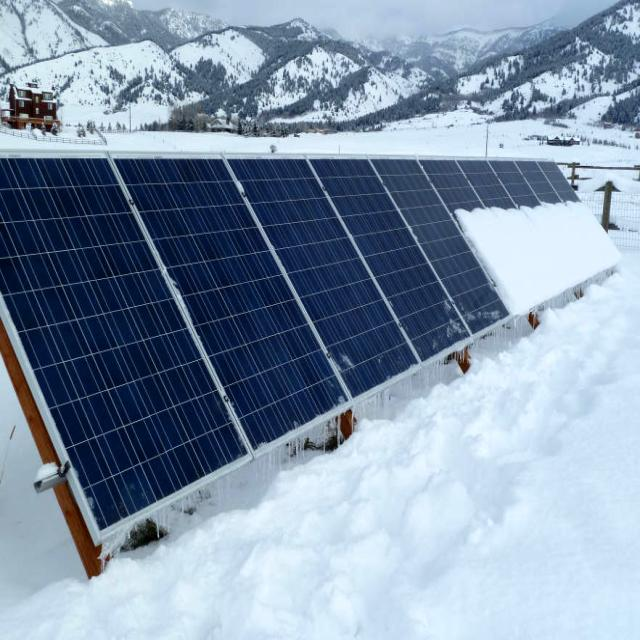panel: (451, 184, 631, 320)
